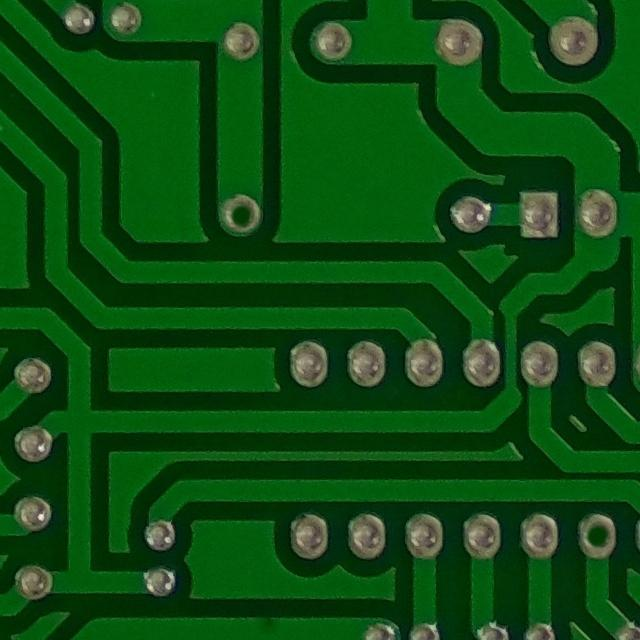missing_hole: (569, 505, 627, 565), (211, 190, 275, 243)
